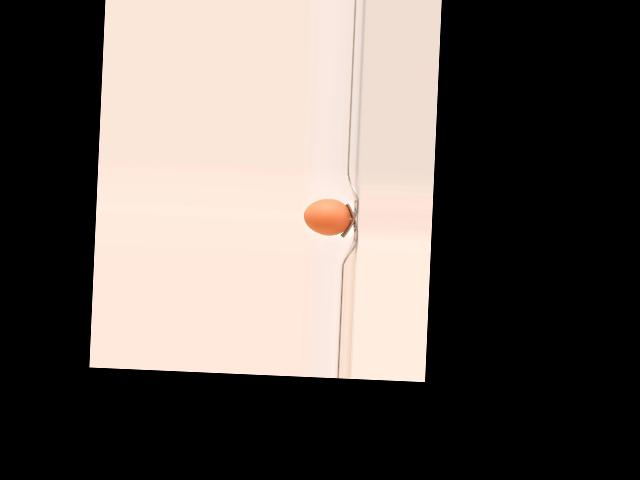egg: (303, 197, 351, 235)
